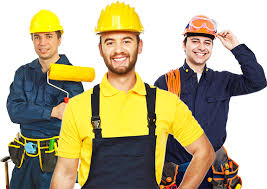Person_wearing_helmet: (93, 2, 144, 50), (177, 13, 219, 45), (29, 8, 66, 41)
